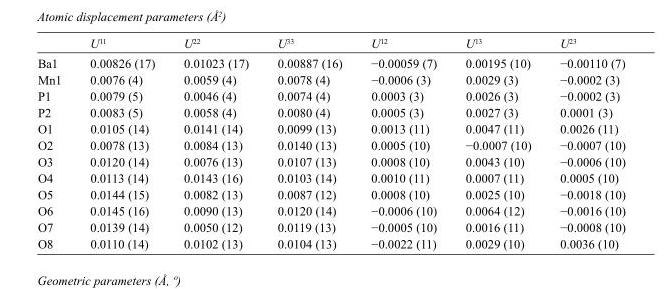table: (36, 36, 625, 250)
table column: (168, 36, 262, 250), (262, 36, 356, 250), (356, 36, 450, 250), (450, 36, 544, 250), (75, 36, 168, 250), (544, 36, 625, 250), (36, 36, 75, 250)
table column header: (36, 36, 625, 53)
table row: (36, 53, 625, 71), (36, 36, 625, 53), (36, 87, 625, 104), (36, 136, 625, 153), (36, 169, 625, 186), (36, 218, 625, 235), (36, 71, 625, 87), (36, 104, 625, 120), (36, 120, 625, 136), (36, 153, 625, 169), (36, 186, 625, 202), (36, 202, 625, 218), (36, 235, 625, 250)
